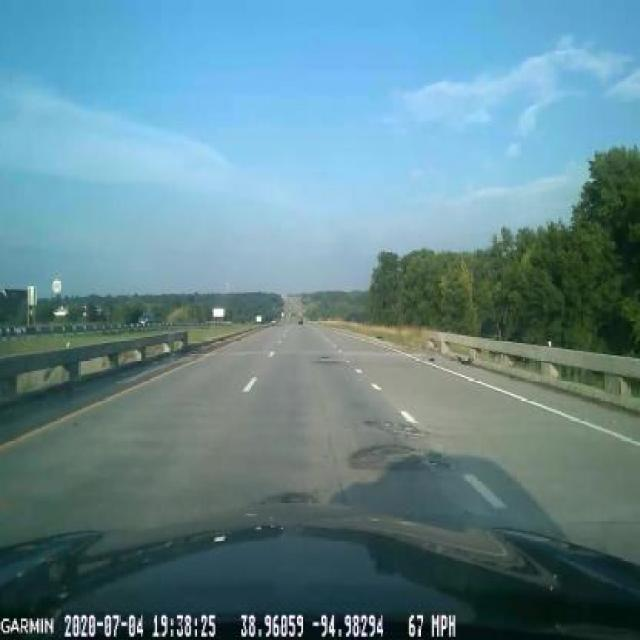Pothole: (348, 436, 448, 481), (362, 402, 446, 447)
